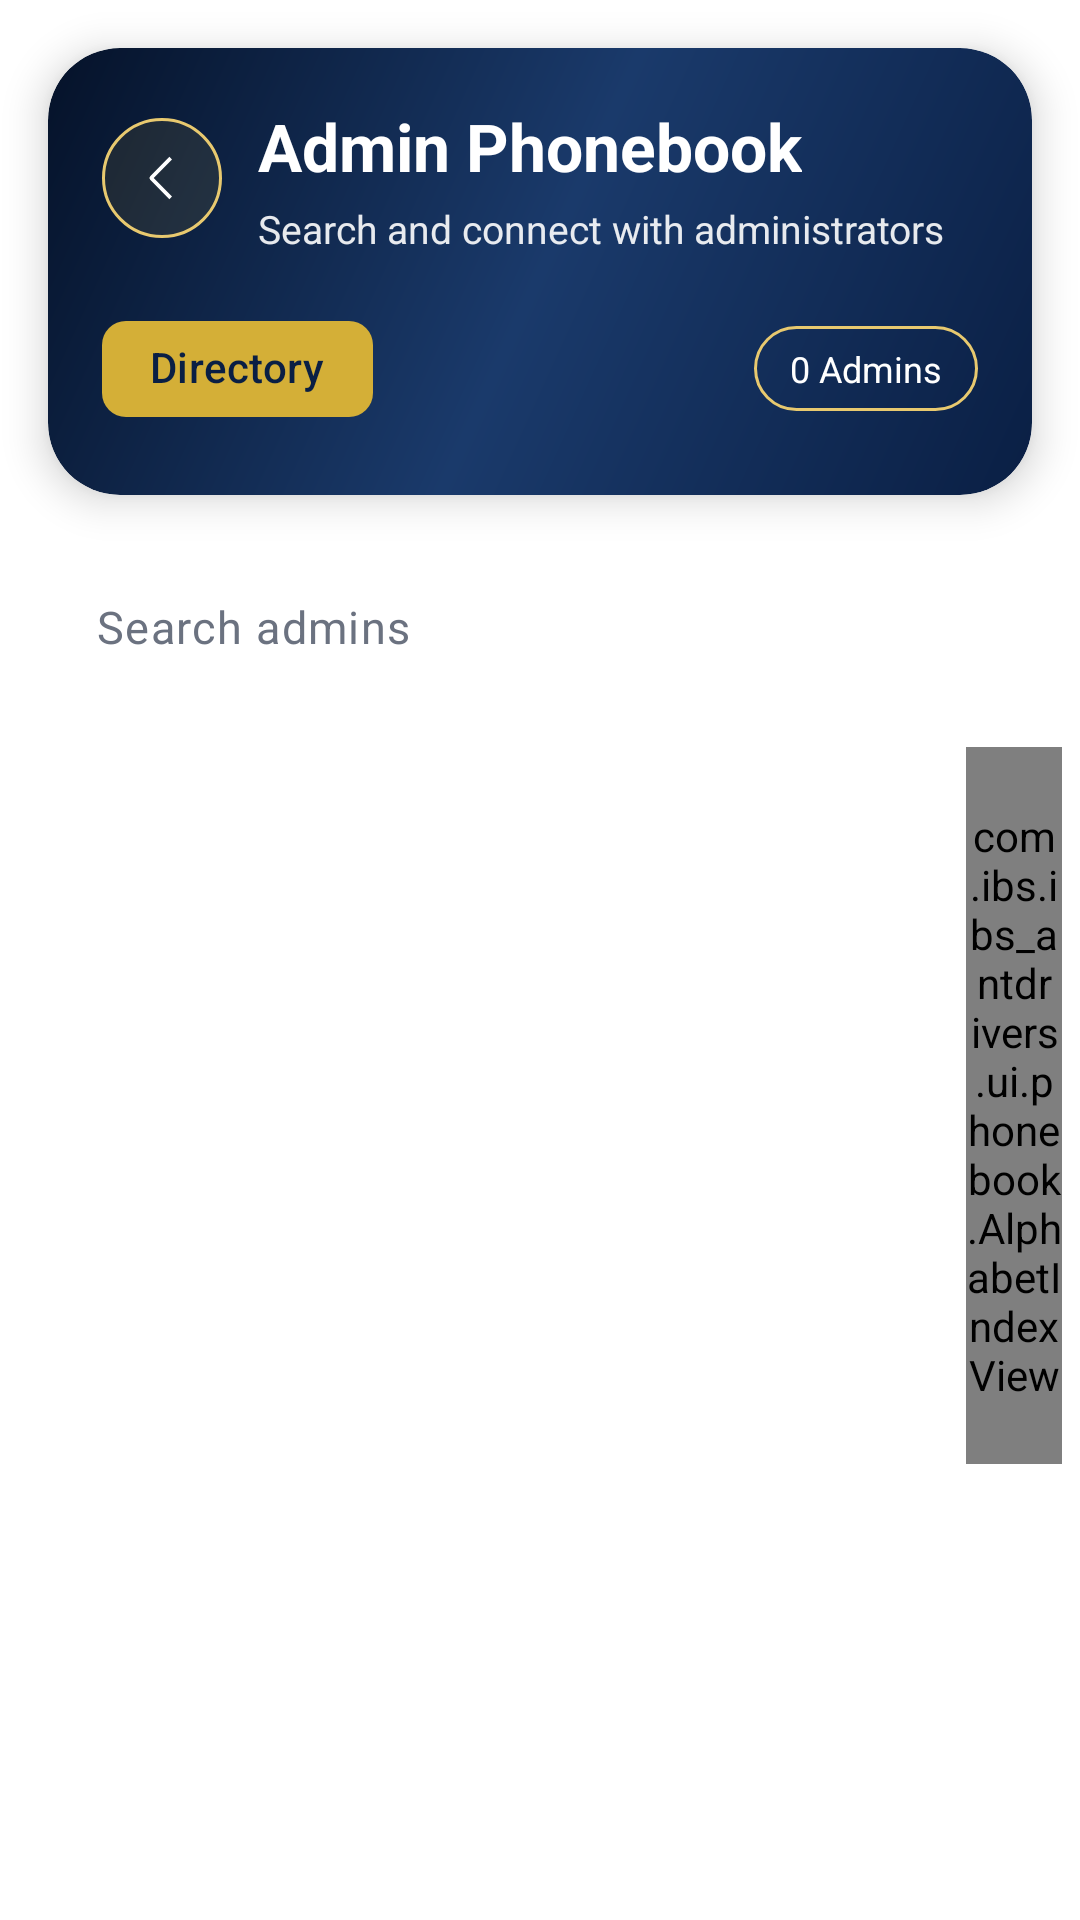

Icons on this 1080 × 1920 Android screen, each with the point to tap as [x,y]:
Back: [162,178]
